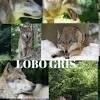Lobo: (1, 63, 39, 92), (16, 27, 40, 62), (55, 27, 81, 59), (4, 3, 42, 23), (46, 3, 80, 22)
